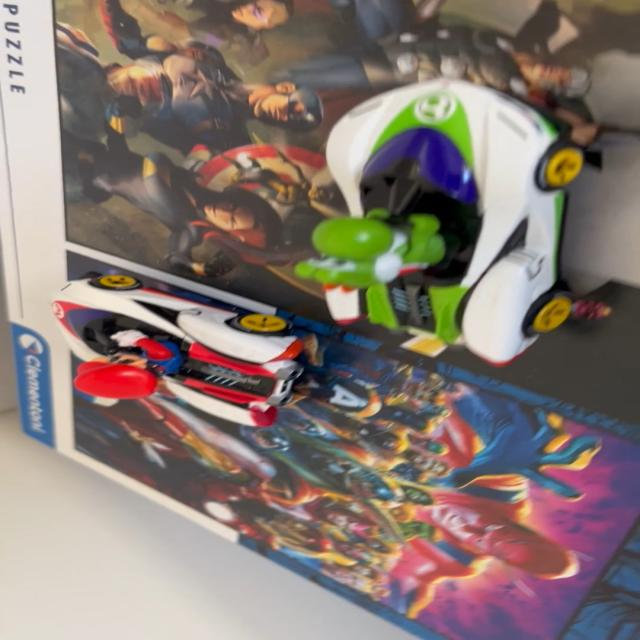mario: (22, 248, 326, 436)
yoshi: (262, 46, 637, 395)
